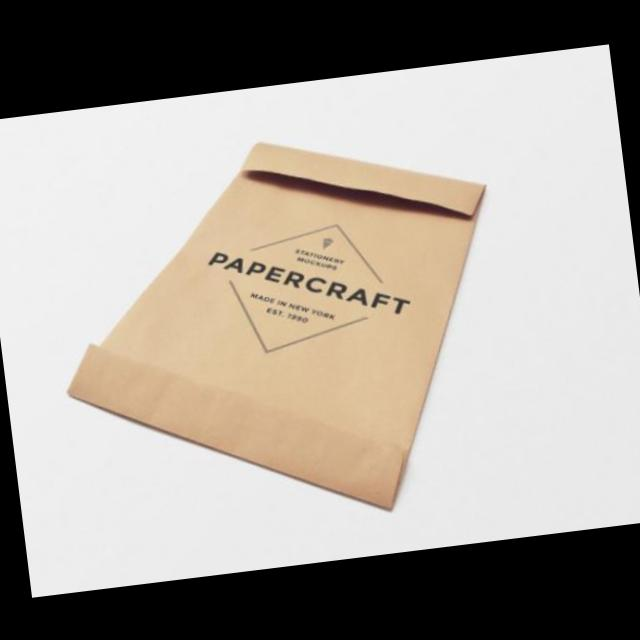mailer: (68, 142, 484, 506)
